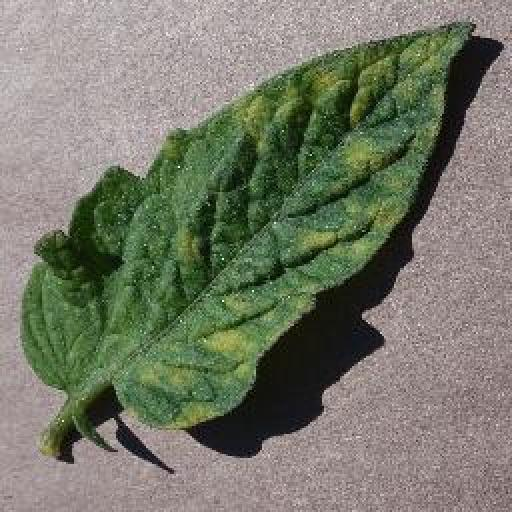Leaf Mold: (21, 18, 476, 430)
